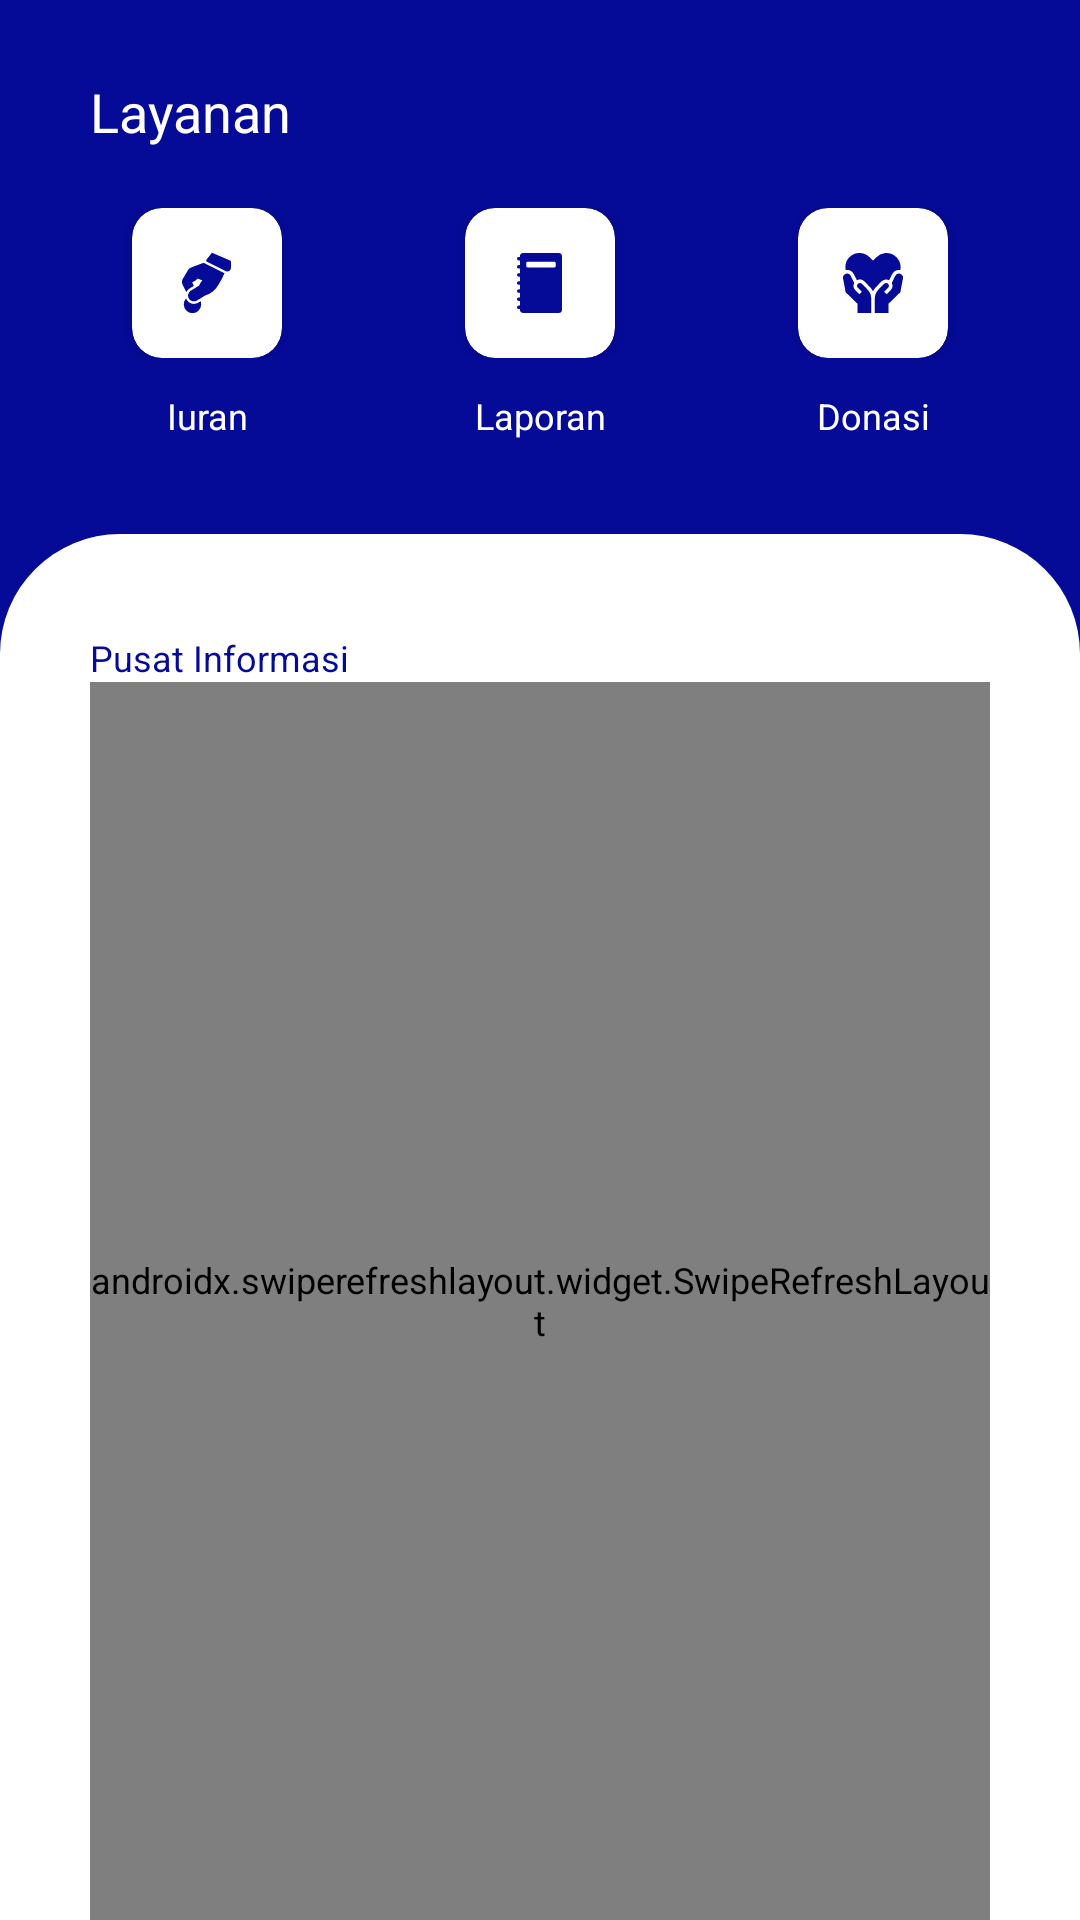

Named icons in this screenshot (1080 × 1920) and their centers, point (x, y):
donation: point (873, 283)
